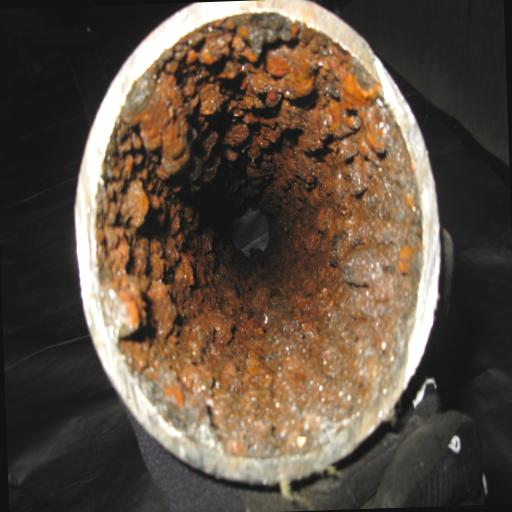segmentation: (75, 0, 440, 498)
